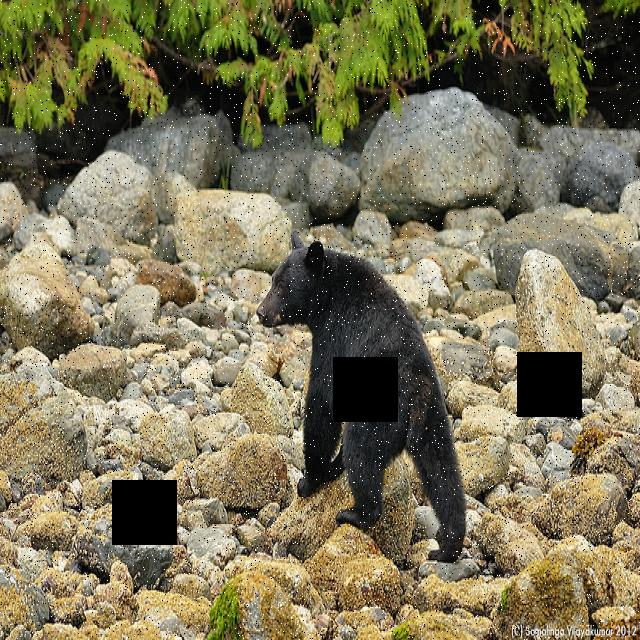Bear: (253, 234, 471, 565)
